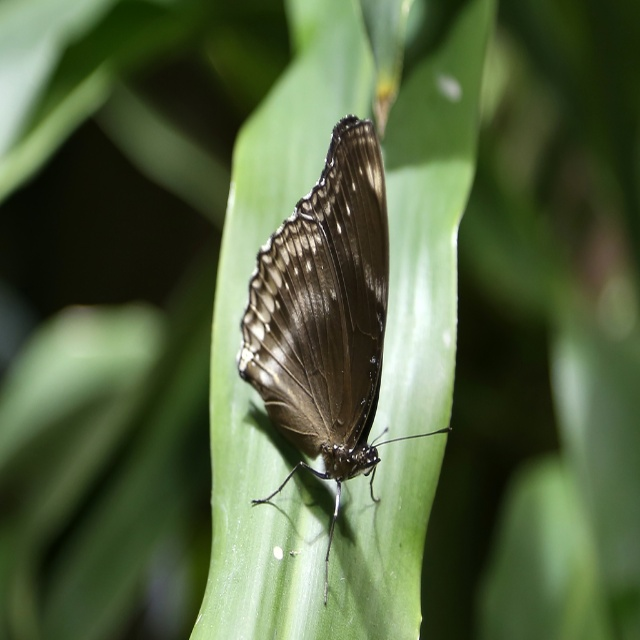Butterfly: (222, 92, 423, 593)
